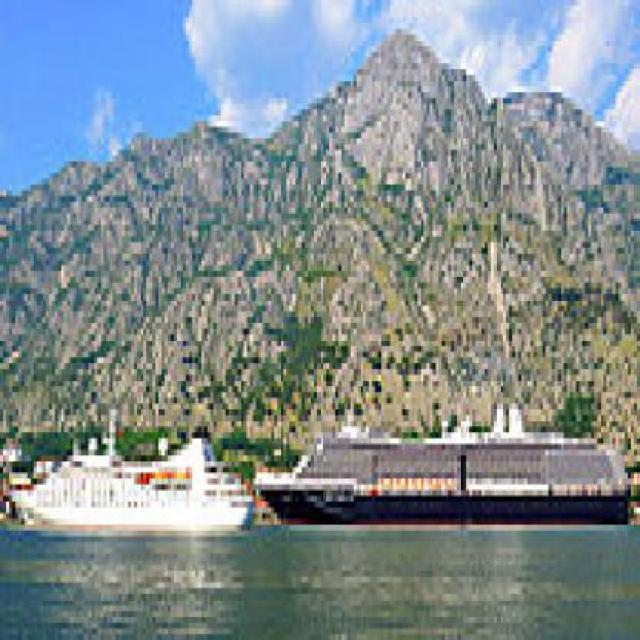cruise: (244, 381, 638, 549), (10, 399, 261, 537)
